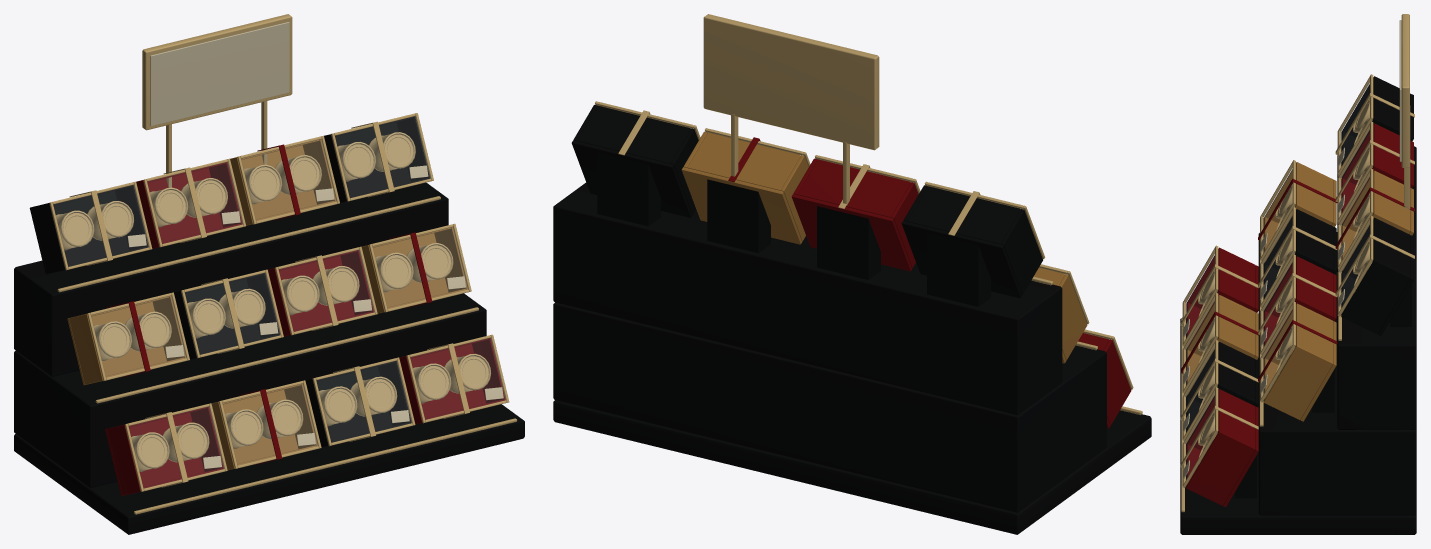
3 renders of one model, left to right at view 1: azimuth 30°, elevation 25°; view 2: azimuth 150°, elevation 25°; view 3: azimuth 270°, elevation 25°, orthographic. The views are drawn at different scales.
Parts seen in each view (by area): view 1: DISPLAY_SharedLacquer, DISPLAY_SharedChampagneMetal; view 2: DISPLAY_SharedLacquer, DISPLAY_SharedChampagneMetal; view 3: DISPLAY_SharedLacquer, DISPLAY_SharedChampagneMetal.
Boxes of the visible parts, x1,y1,x2,y2 form: DISPLAY_SharedLacquer: (14,22,524,534); DISPLAY_SharedChampagneMetal: (49,14,517,514); DISPLAY_SharedLacquer: (553,105,1151,534); DISPLAY_SharedChampagneMetal: (595,14,1142,414); DISPLAY_SharedLacquer: (1180,20,1416,534); DISPLAY_SharedChampagneMetal: (1180,14,1414,512).
Size of the model in its own units: 1 by 0.9 by 0.5.
